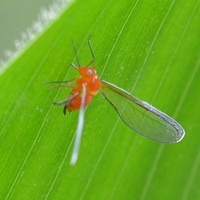insect: (44, 64, 184, 164)
